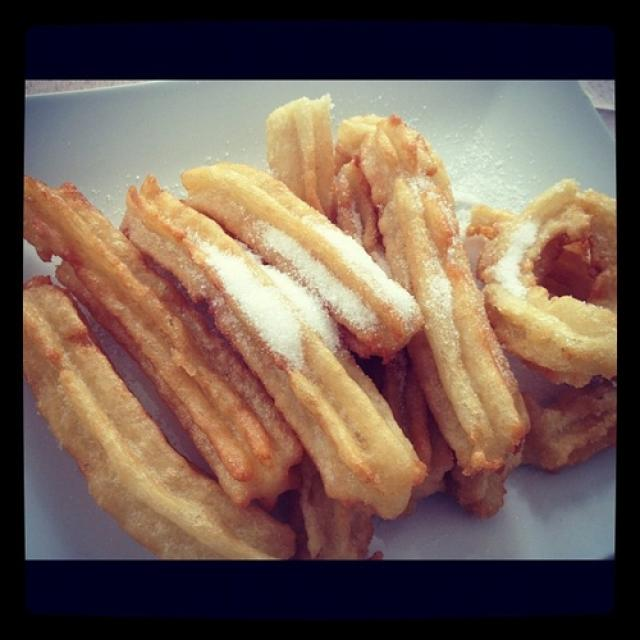炸货点心: (33, 87, 606, 562)
